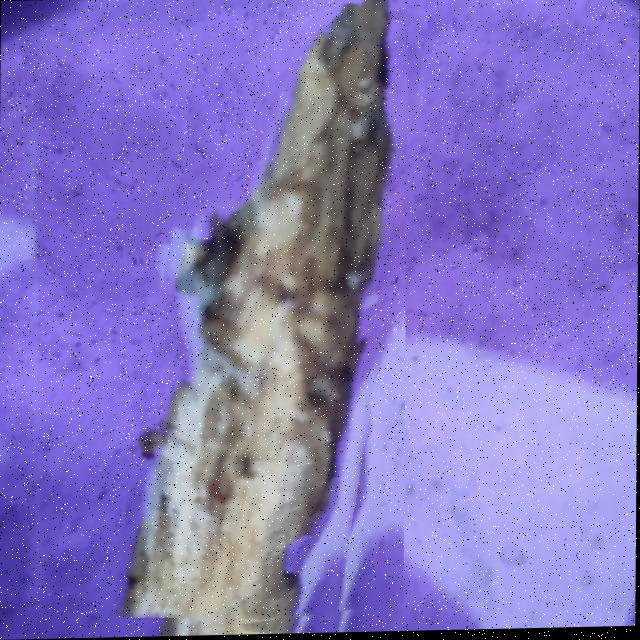litter: (130, 0, 407, 638)
